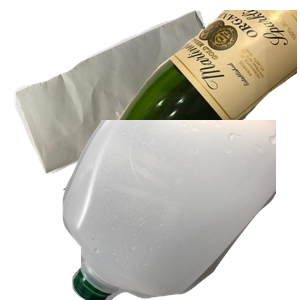glass: (60, 10, 300, 190)
paper: (12, 10, 240, 176)
plastic: (60, 120, 300, 300)
trash: (76, 159, 259, 300)
